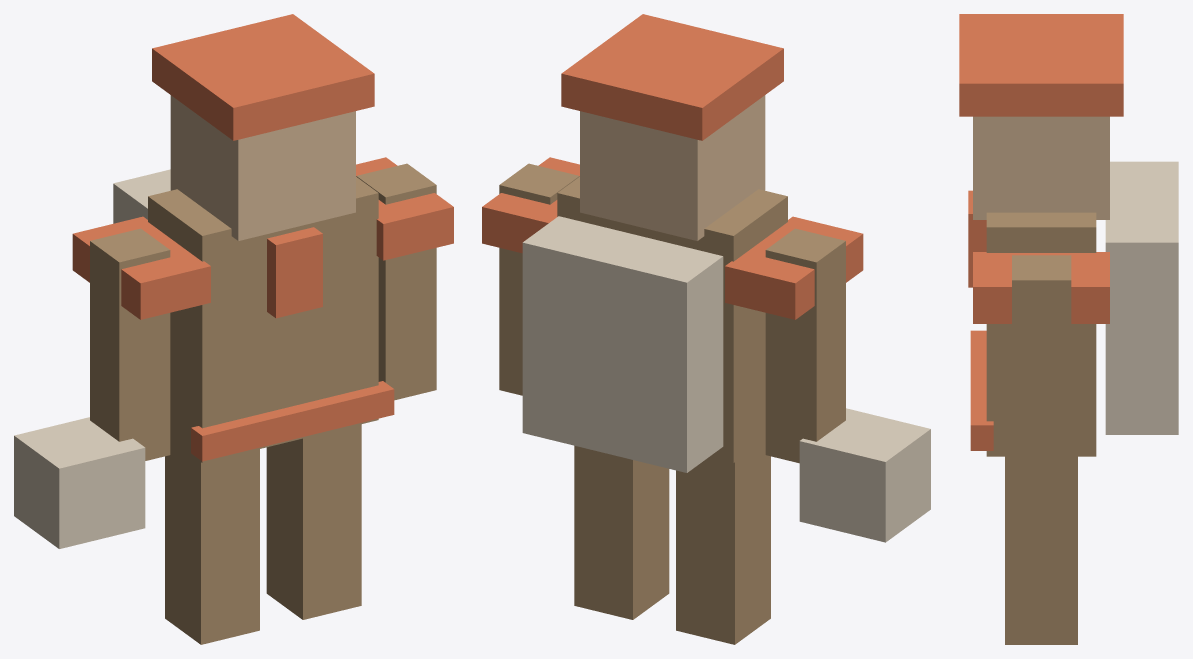
File: 17_lio_echohand_scout_of_summit.glb
3 views of the same model, side by side, from view 1: azimuth 30°, elevation 25°; view 2: azimuth 150°, elevation 25°; view 3: azimuth 270°, elevation 25° (orthographic).
Visible parts, largest first — view 1: Lio Echohand, Scout of Summit; view 2: Lio Echohand, Scout of Summit; view 3: Lio Echohand, Scout of Summit.
Part boxes in pixels (x1,y1,x2,y2): Lio Echohand, Scout of Summit: (14,14,453,644); Lio Echohand, Scout of Summit: (482,14,930,644); Lio Echohand, Scout of Summit: (959,14,1178,644).
Bounding box in the file's own units: 1.06 × 1.44 × 0.5125.
